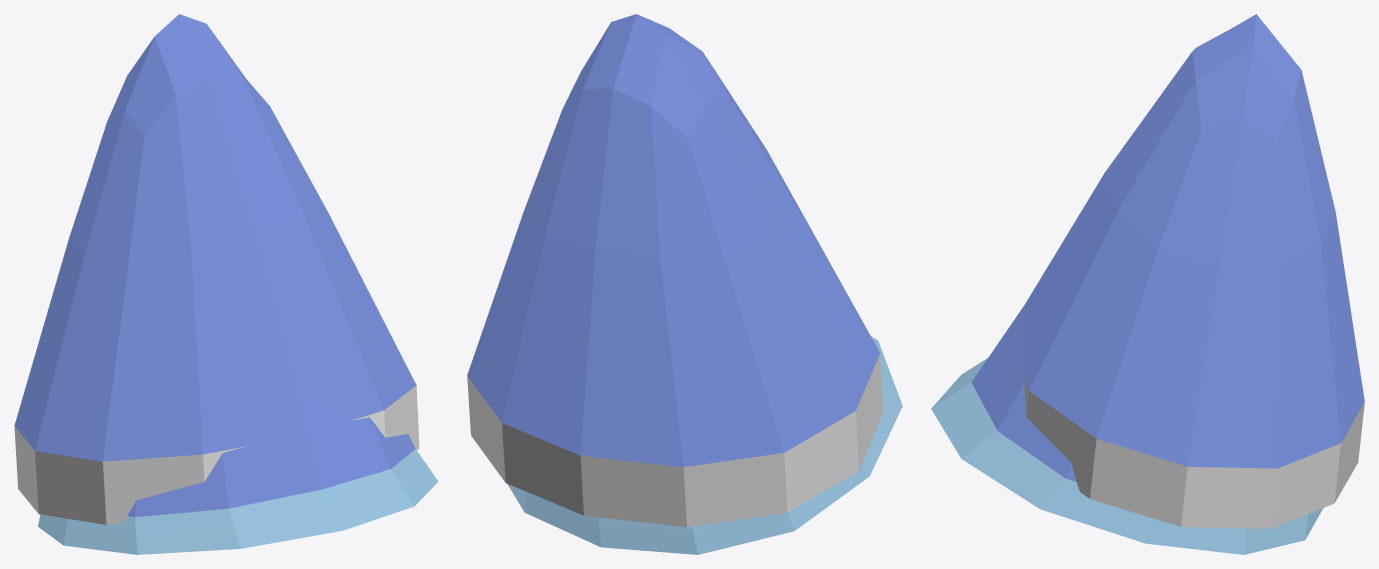
File: party.glb
3 renders of one model, left to right at view 1: azimuth 30°, elevation 25°; view 2: azimuth 150°, elevation 25°; view 3: azimuth 270°, elevation 25°, orthographic. The views are drawn at different scales.
Visible parts, largest first — view 1: normal.008, small.007; view 2: normal.008, small.007; view 3: normal.008, small.007.
Boxes of the visible parts, box(x1,y1,x2,y2) form: normal.008: box(14, 14, 419, 524); small.007: box(38, 390, 438, 554); normal.008: box(467, 14, 883, 527); small.007: box(507, 336, 902, 554); normal.008: box(1018, 14, 1364, 528); small.007: box(931, 304, 1323, 554).
Size of the model in its own units: 0.8725 by 1.15 by 0.921.
